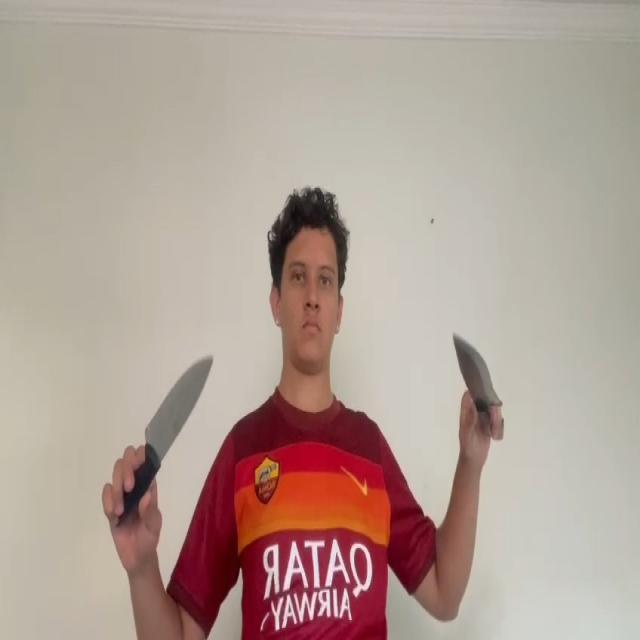knife: (143, 354, 214, 449), (452, 332, 500, 405)
